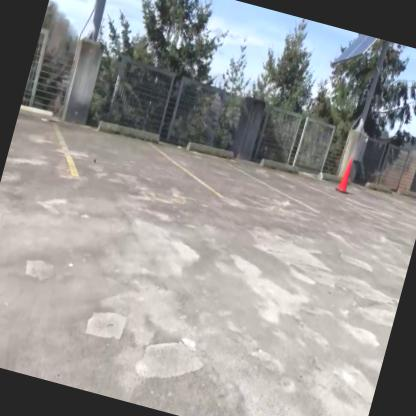cone: (332, 155, 359, 201)
